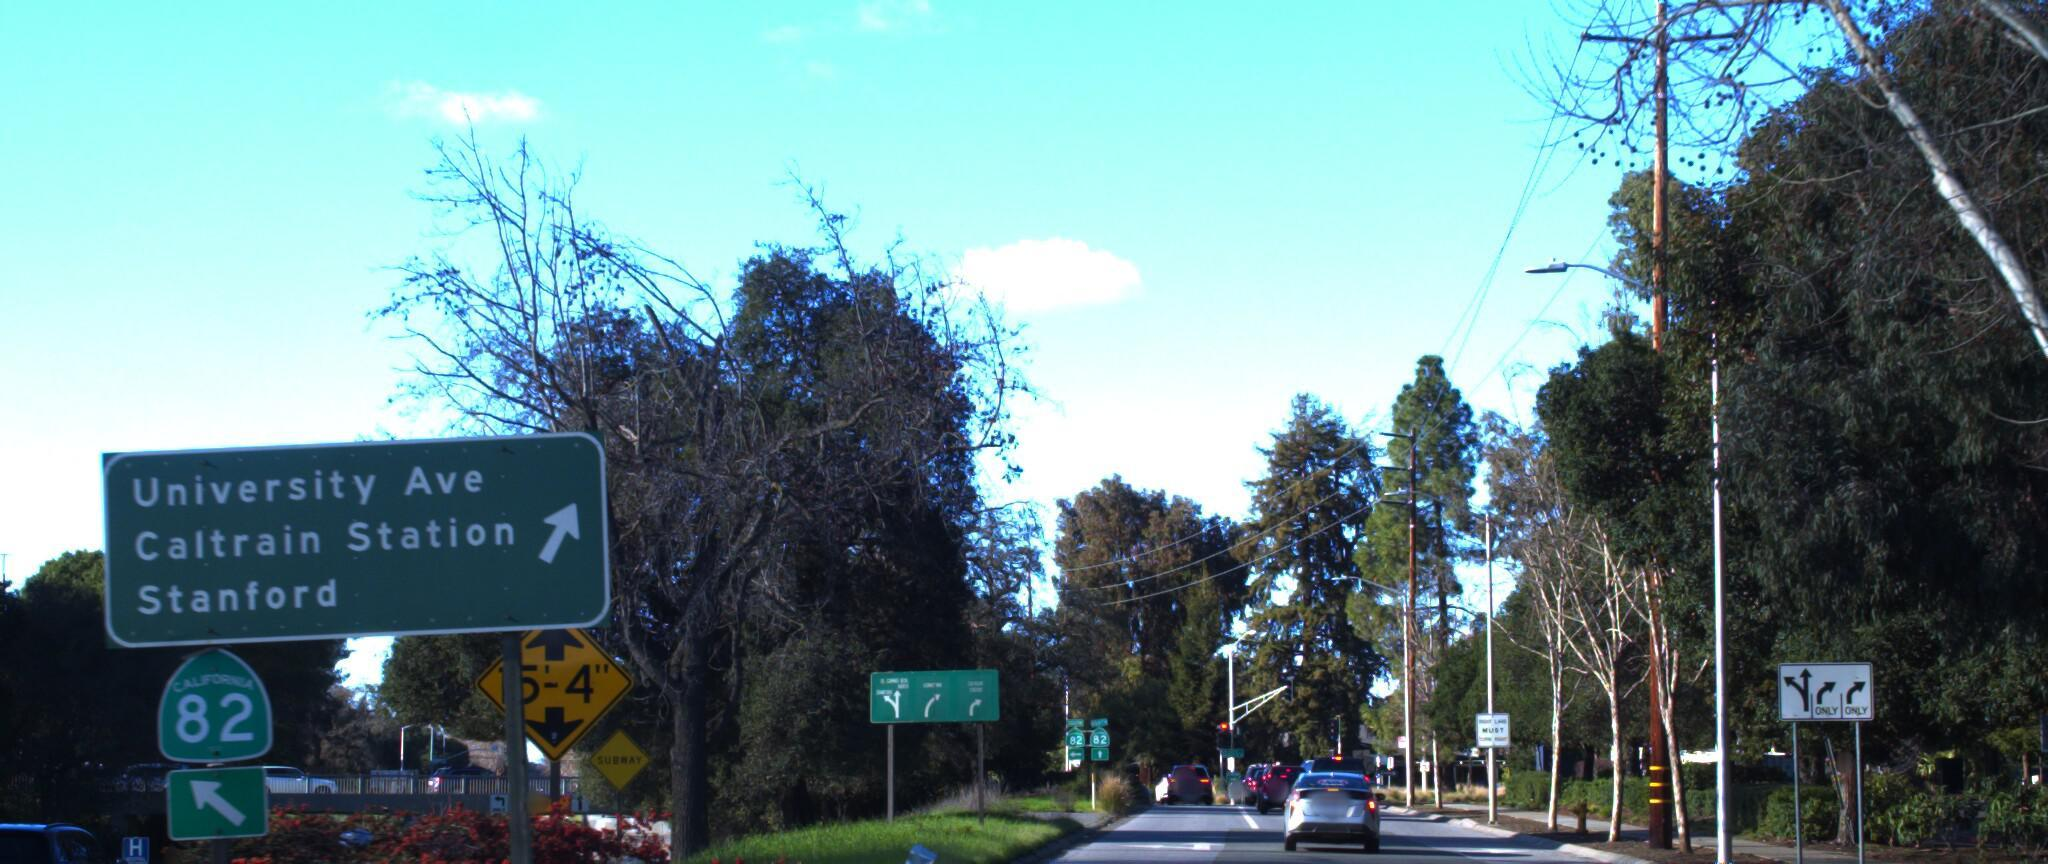car: (1273, 764, 1381, 848), (0, 820, 161, 864)
